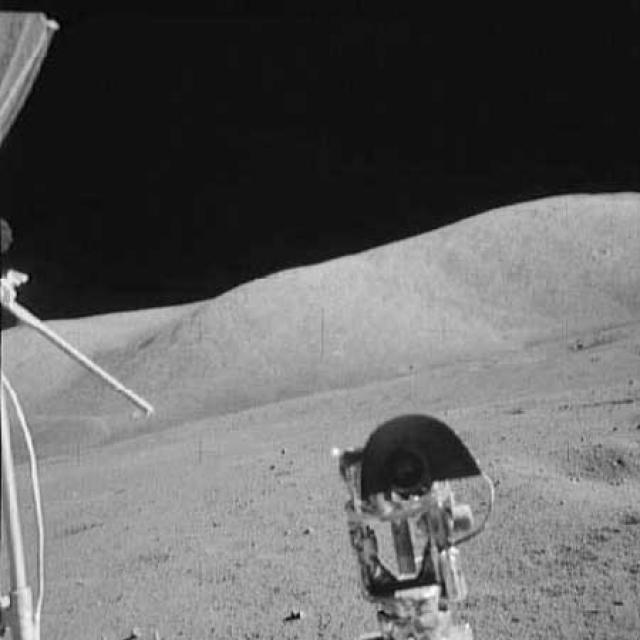artifact: (0, 216, 155, 639), (321, 412, 505, 638), (0, 10, 62, 140)
crater: (529, 441, 639, 491), (489, 328, 633, 365)
